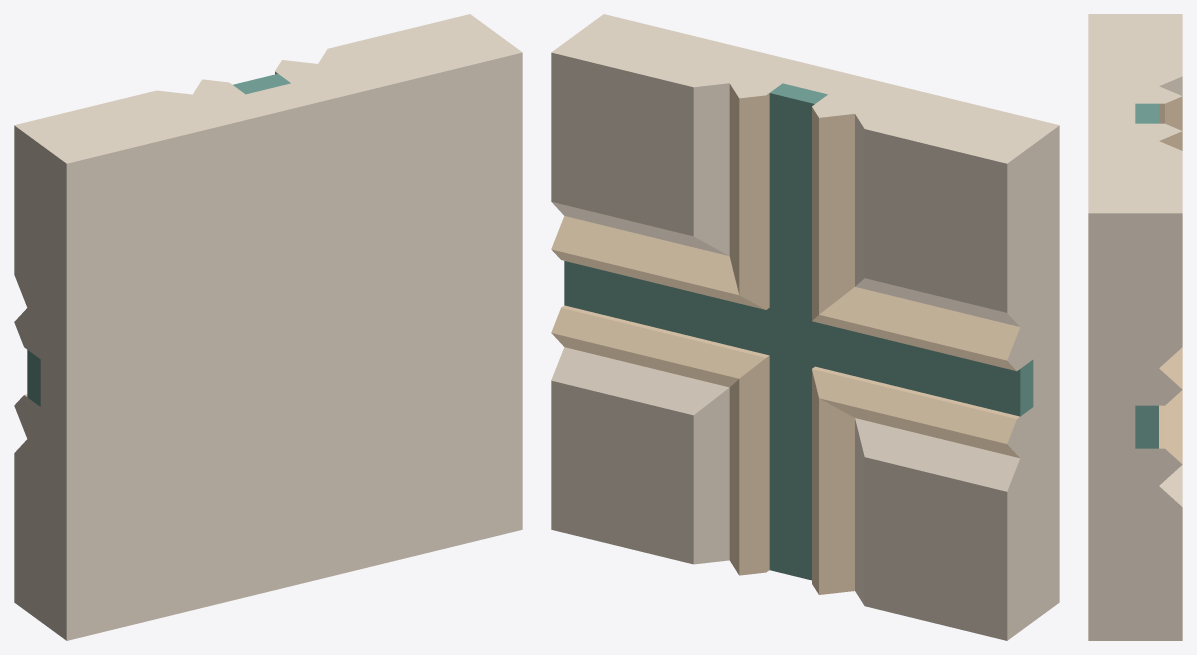
File: Puzzle_Wall_Conduit_Path_Cross.glb
3 views of the same model, side by side, from view 1: azimuth 30°, elevation 25°; view 2: azimuth 150°, elevation 25°; view 3: azimuth 270°, elevation 25° (orthographic). The views are drawn at different scales.
Visible parts, largest first — view 1: Puzzle_Wall_Conduit_Path_Cross; view 2: Puzzle_Wall_Conduit_Path_Cross; view 3: Puzzle_Wall_Conduit_Path_Cross.
Boxes of the visible parts, left/top/right/bottom form: Puzzle_Wall_Conduit_Path_Cross: left=14, top=14, right=522, bottom=640; Puzzle_Wall_Conduit_Path_Cross: left=551, top=14, right=1059, bottom=640; Puzzle_Wall_Conduit_Path_Cross: left=1088, top=14, right=1182, bottom=640.
Bounding box in the file's own units: 1 × 1 × 0.2.
